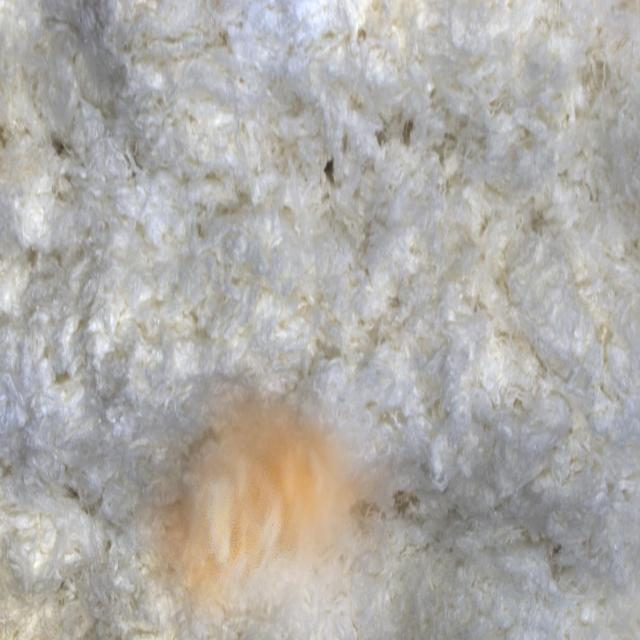dust: (135, 340, 415, 640)
